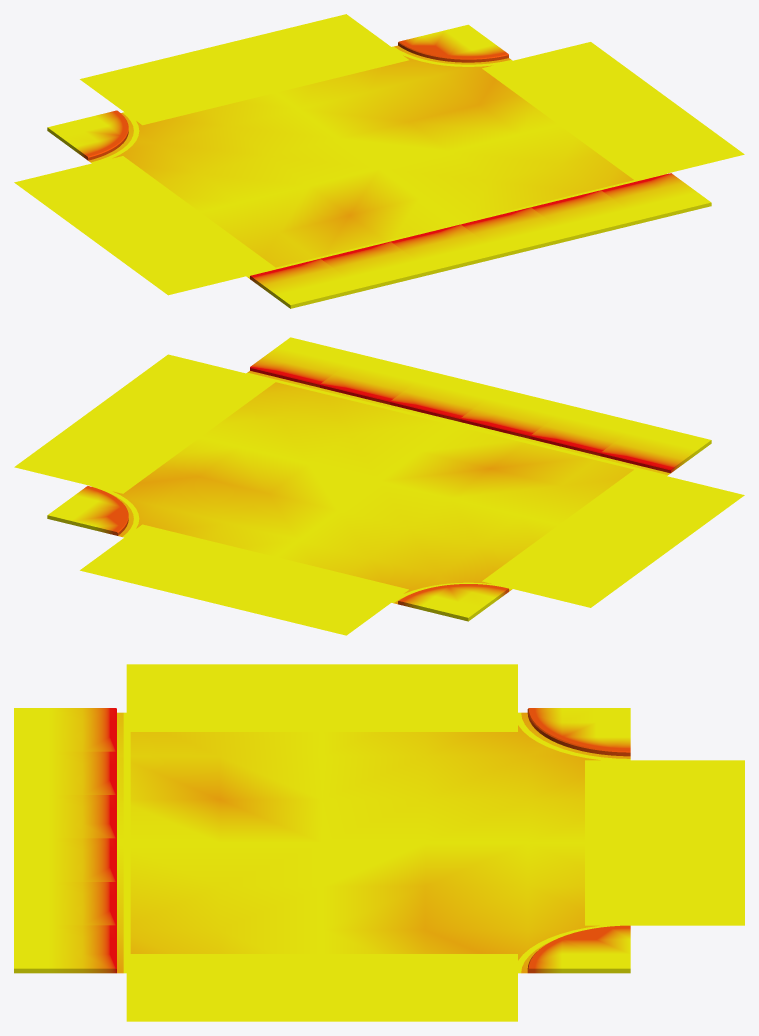
The model's file is street-tintersection.glb.
The picture shows the model from 3 angles, top to bottom: view 1: azimuth 30°, elevation 25°; view 2: azimuth 150°, elevation 25°; view 3: azimuth 270°, elevation 25°; orthographic projection. The views are drawn at different scales.
Parts seen in each view (by area): view 1: Street_TIntersection; view 2: Street_TIntersection; view 3: Street_TIntersection.
Part boxes in pixels (x1,y1,x2,y2): Street_TIntersection: (14, 14, 744, 308); Street_TIntersection: (14, 337, 744, 635); Street_TIntersection: (14, 664, 744, 1021).
Bounding box in the file's own units: 24.67 × 0.15 × 21.33.
3 materials, 3 textured.
